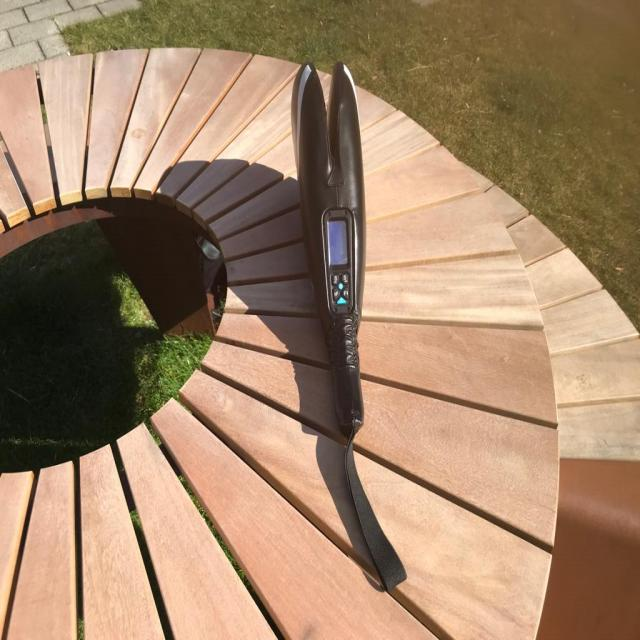paddle: (288, 54, 368, 433)
